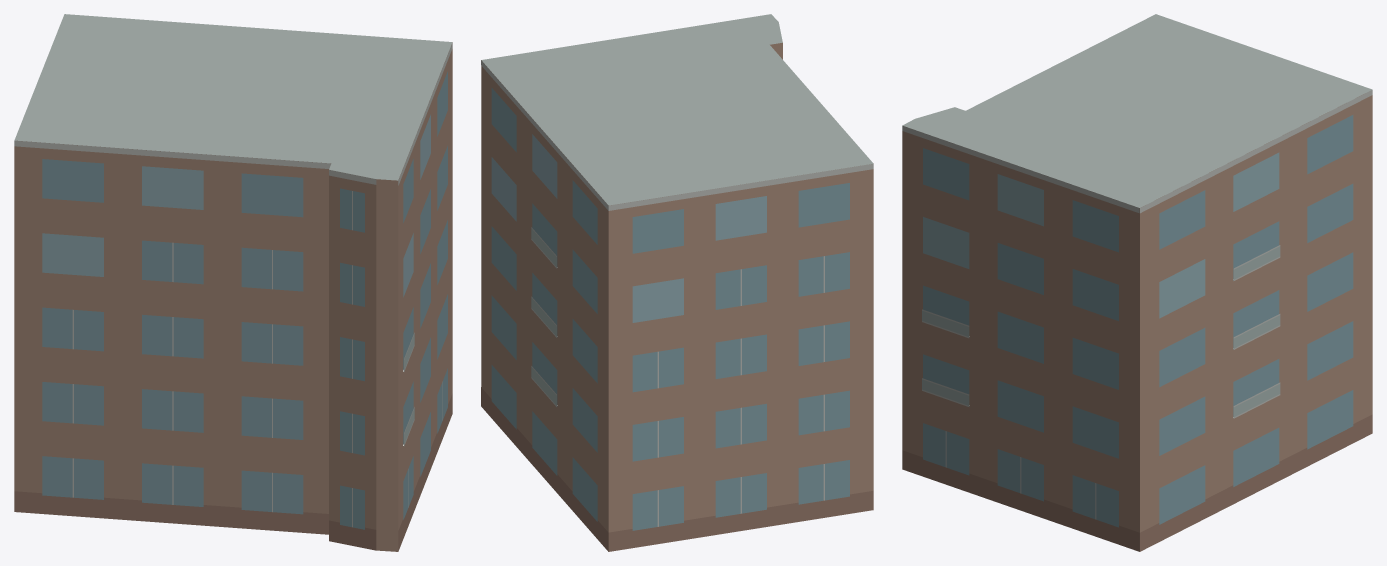
The model's file is survey-upis-33044826.glb.
3 renders of one model, left to right at view 1: azimuth 30°, elevation 25°; view 2: azimuth 150°, elevation 25°; view 3: azimuth 270°, elevation 25°, orthographic. The views are drawn at different scales.
Visible parts, largest first — view 1: survey-upis-33044826.tmp; view 2: survey-upis-33044826.tmp; view 3: survey-upis-33044826.tmp.
Boxes of the visible parts, bbox=[...] form: survey-upis-33044826.tmp: bbox=[14, 14, 452, 551]; survey-upis-33044826.tmp: bbox=[481, 14, 873, 551]; survey-upis-33044826.tmp: bbox=[902, 14, 1372, 551].
Bounding box in the file's own units: 18.89 × 15.6 × 19.35.
